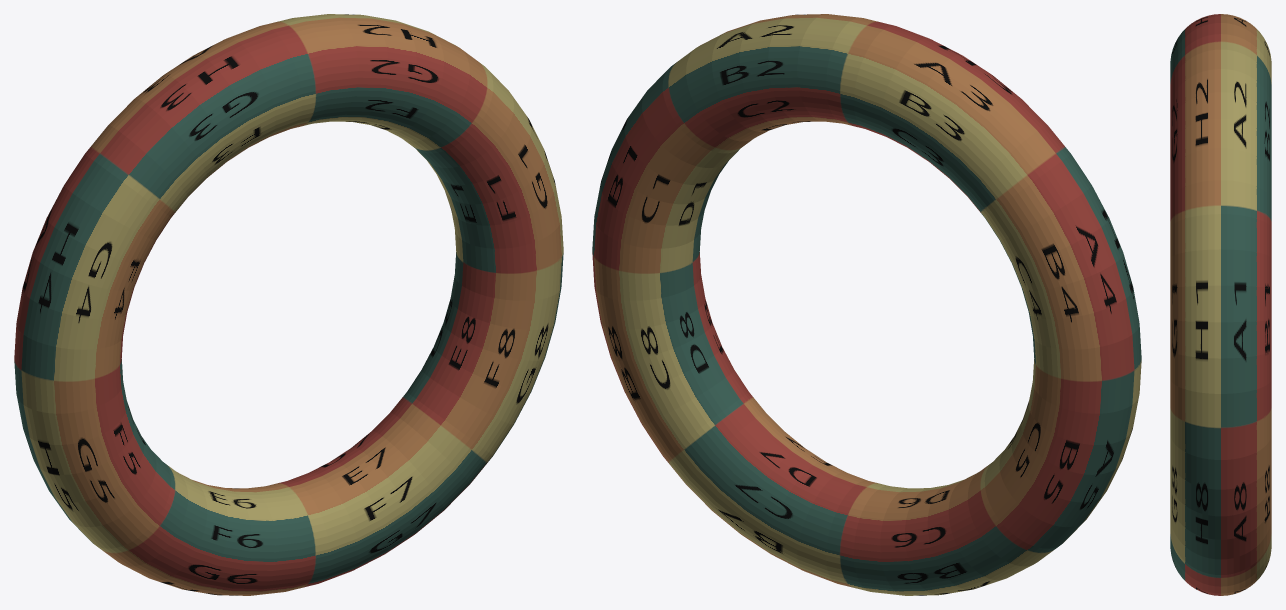
The model's file is texture_torus_R22_r12.glb.
The picture shows the model from 3 angles, left to right: view 1: azimuth 30°, elevation 25°; view 2: azimuth 150°, elevation 25°; view 3: azimuth 270°, elevation 25°; orthographic projection. The views are drawn at different scales.
Visible parts, largest first — view 1: world; view 2: world; view 3: world.
Part boxes in pixels (x1,y1,x2,y2): world: [14, 14, 563, 595]; world: [592, 14, 1141, 595]; world: [1170, 14, 1271, 595].
Bounding box in the file's own units: 29.87 × 29.81 × 5.19.
1 material, 1 textured.
